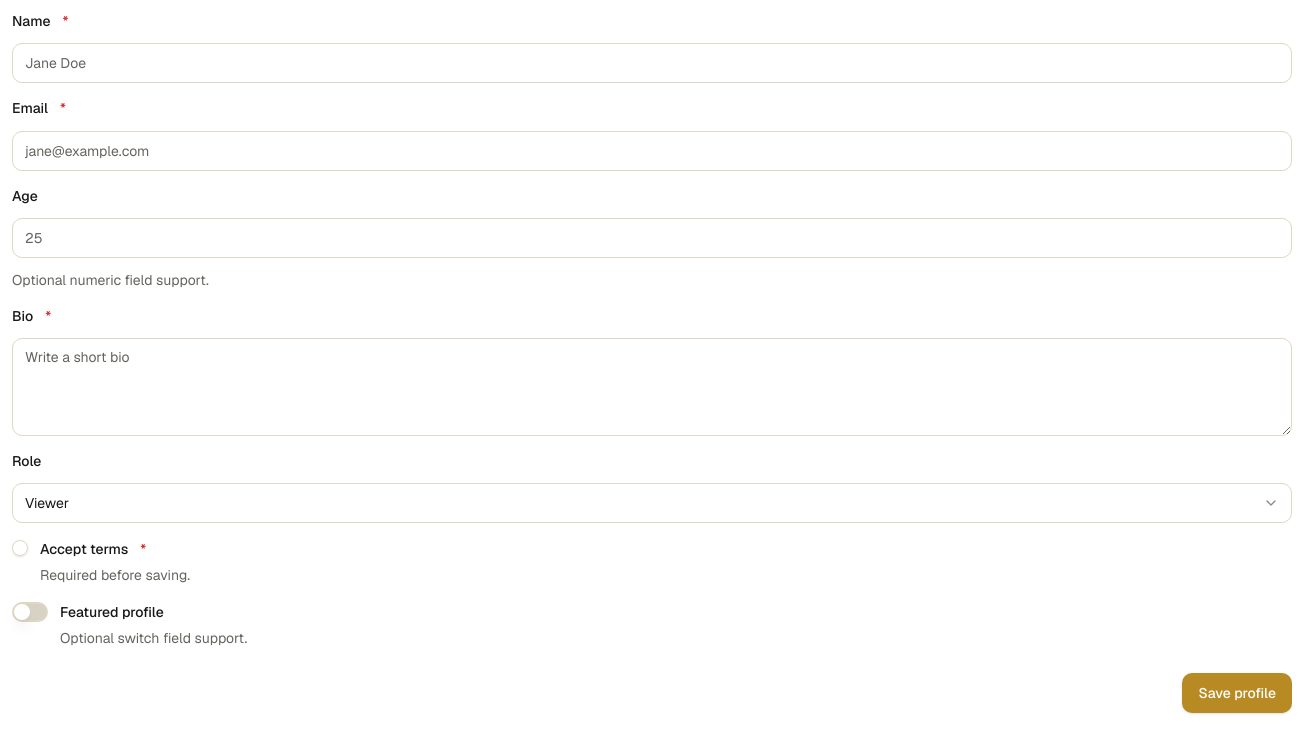
Test: DynamicForm › validates on change and renders field-level messages
The image size is (1304, 731).
Type "Al" into the field labelled "Name *".
click(652, 63); type("Al")  # box [12,43,1292,83]
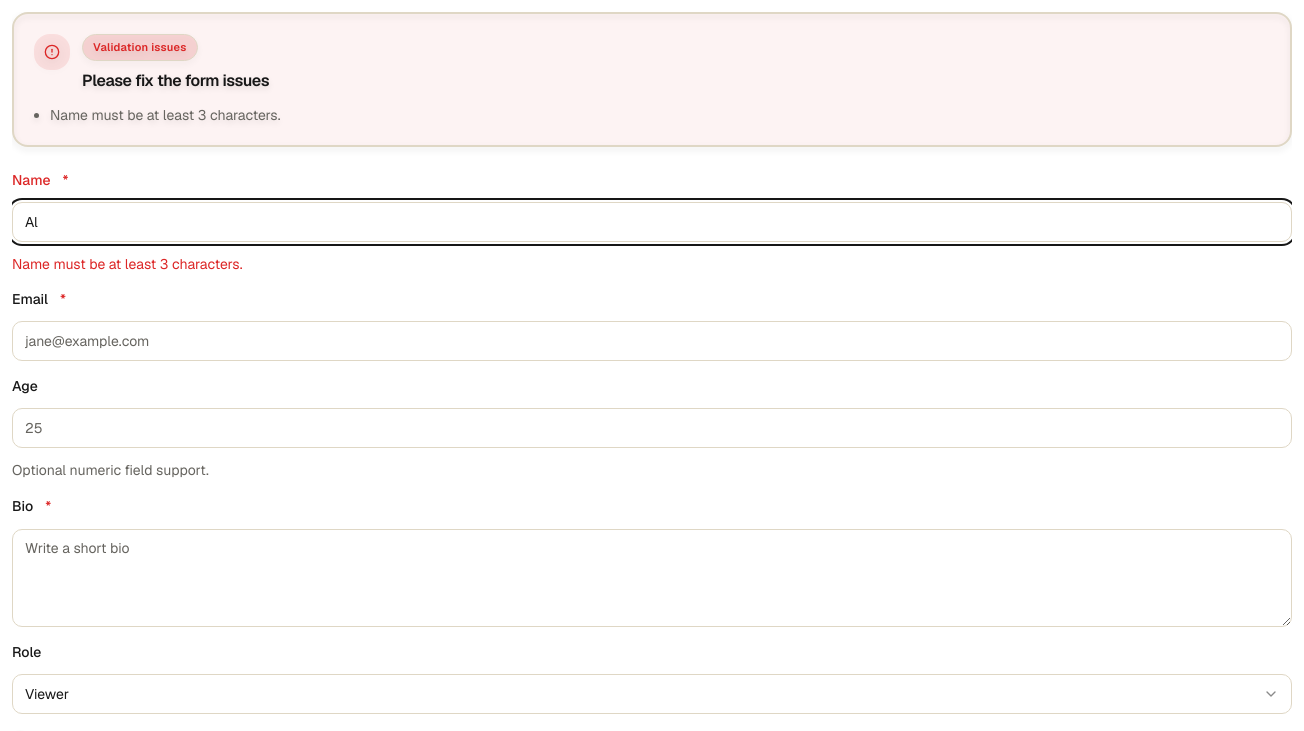
Now the list item "Name must be at least 3 characters." is shown, box [50,106,280,124]
Type "i" into the field labelled "Name *".
click(652, 222); type("i")  # box [12,202,1292,242]
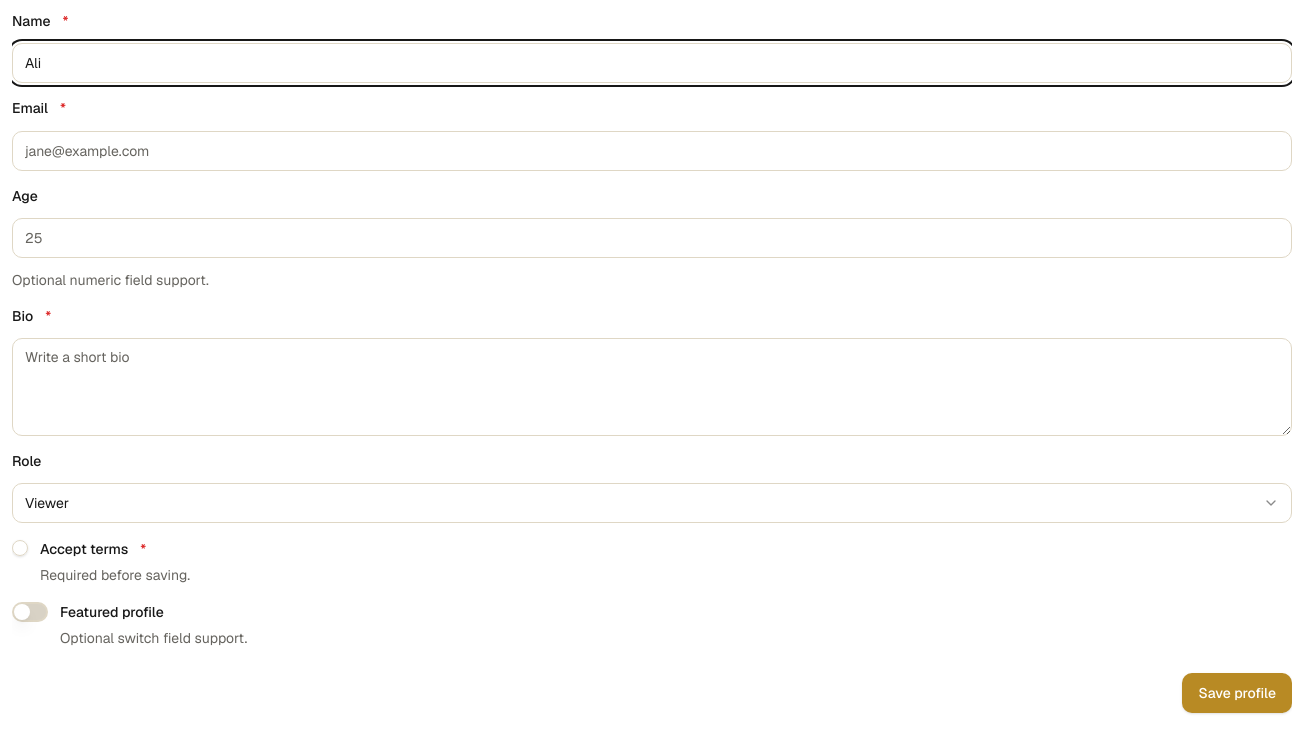
Now the list item "Name must be at least 3 characters." is gone
Type "bad-email" into the field labelled "Email *".
click(652, 150); type("bad-email")  # box [12,130,1292,170]
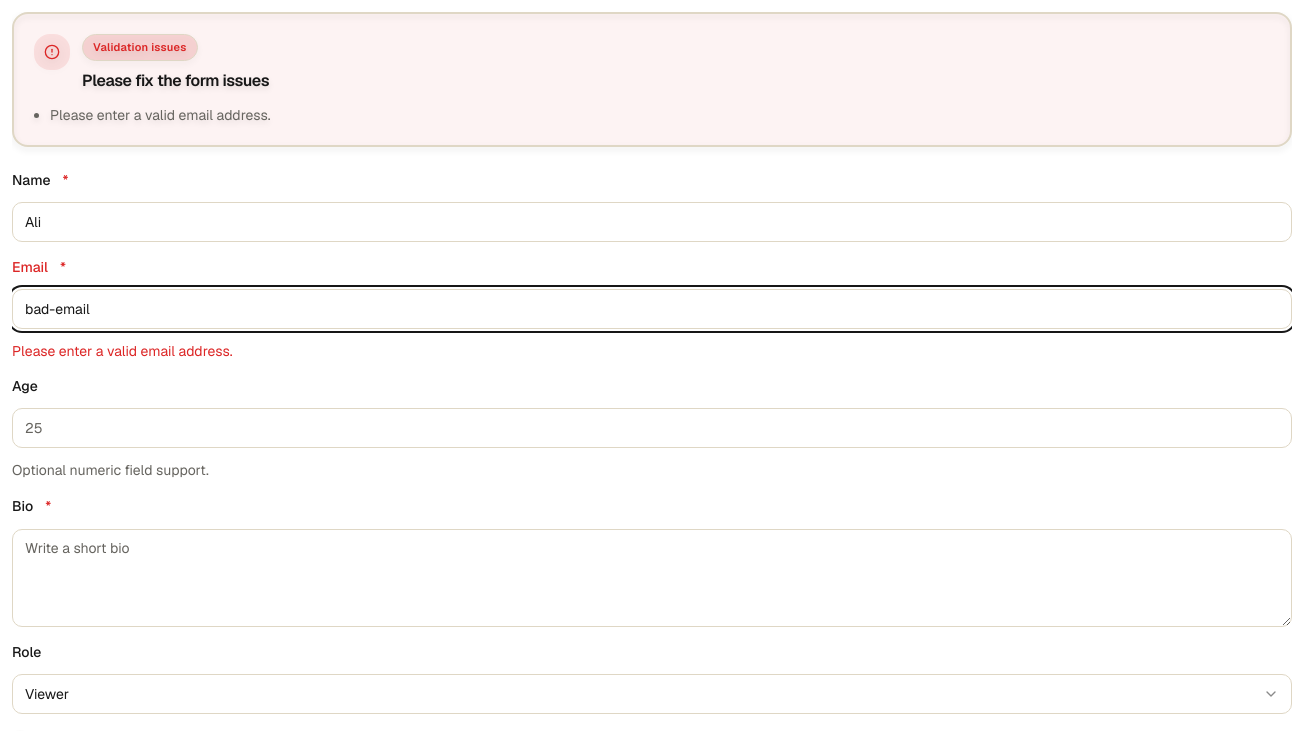
Now the list item "Please enter a valid email address." is shown, box [50,106,270,124]
